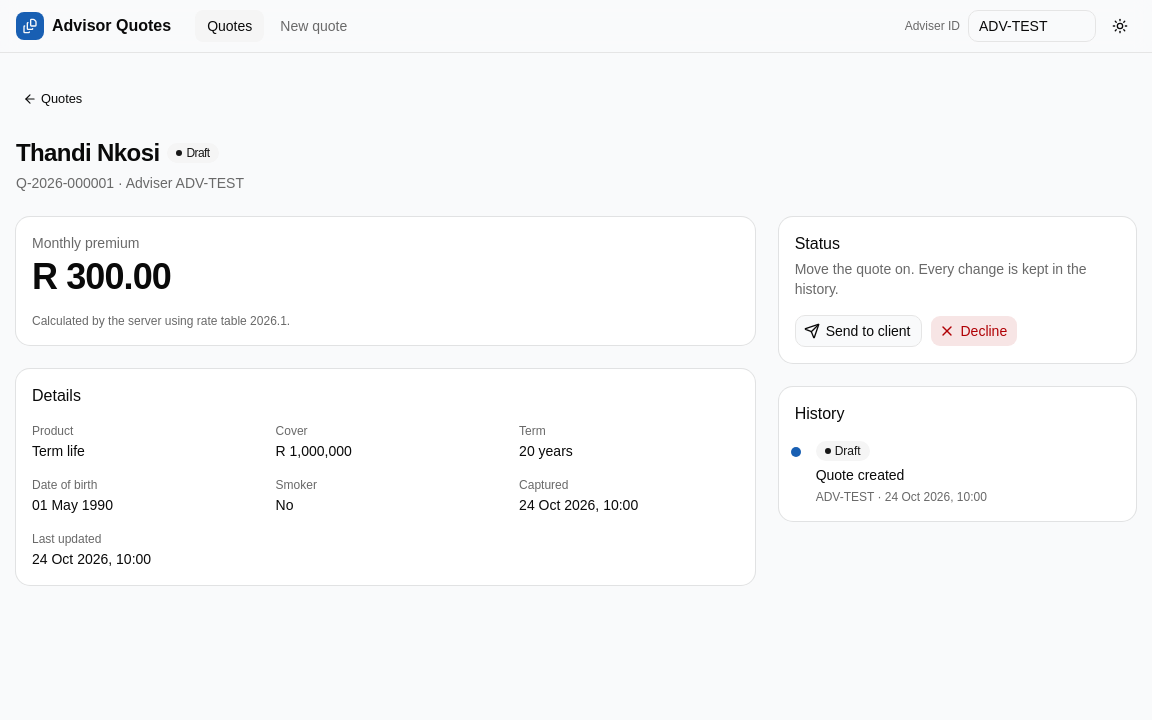
Test: changing a quote status › shows the conflict and reloads the quote when someone else changed it first
The image size is (1152, 720).
What coordinates should you click on to do the following:
click the button "Send to client"
I would click on:
 (858, 331)
Its box is [795,315,922,347].
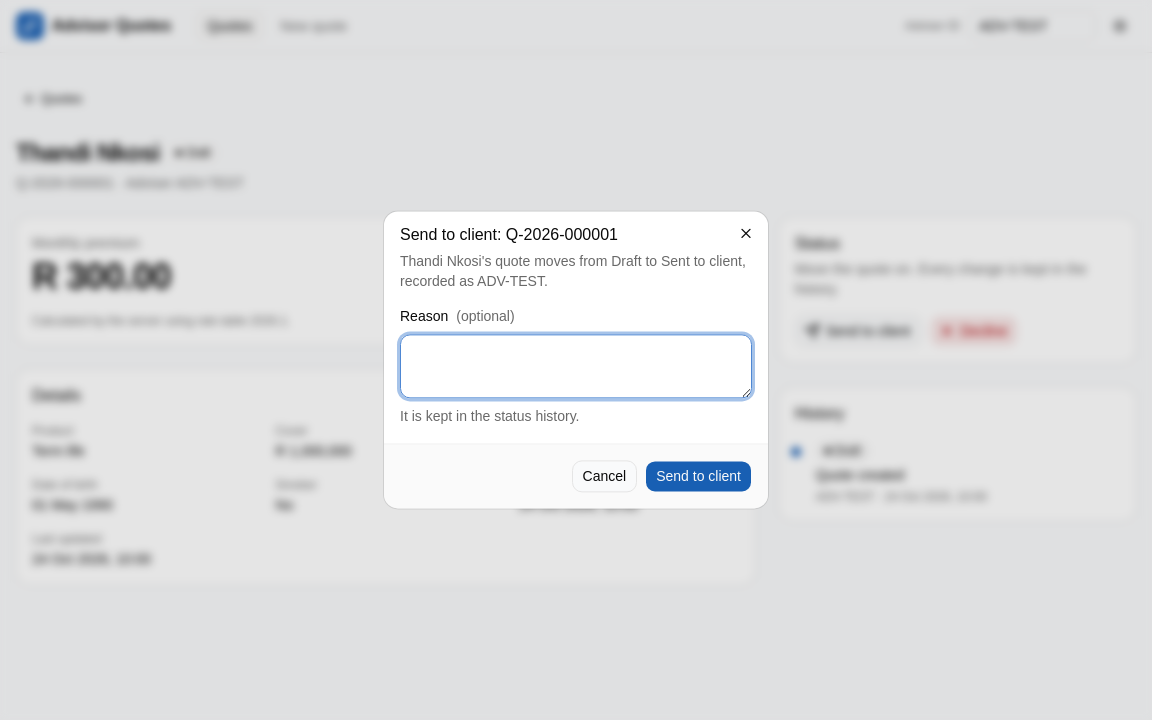
What coordinates should you click on to do the following:
click the button "Send to client"
I would click on:
 (699, 477)
Its box is [645,461,752,493].
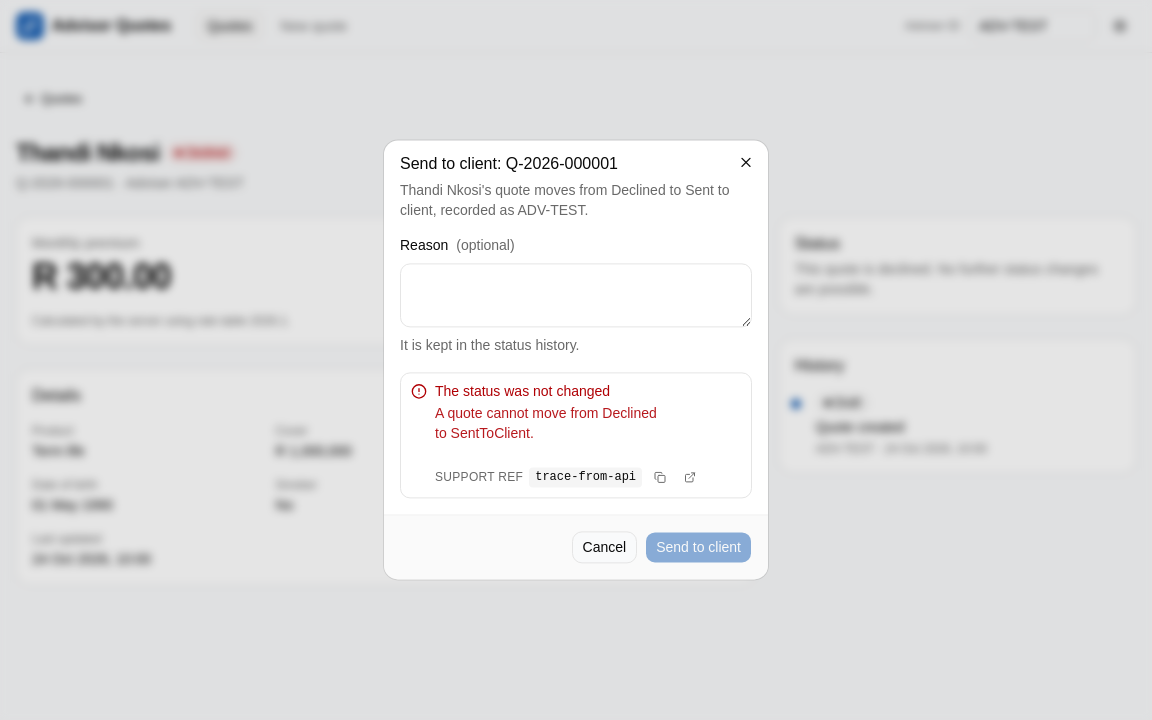
expect the text "A quote cannot move from Declined to SentToClient." is shown: met, box [435,406,657,442]
expect the text "No further status changes are possible" is shown: met, box [795,261,1098,297]
expect the button "Send to client" is disabled: met, box [645,532,752,564]
